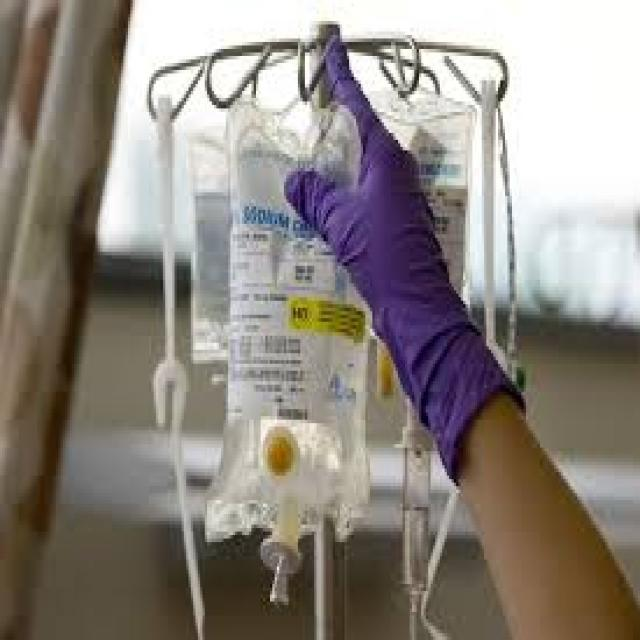iv_fluids: (158, 52, 525, 640)
